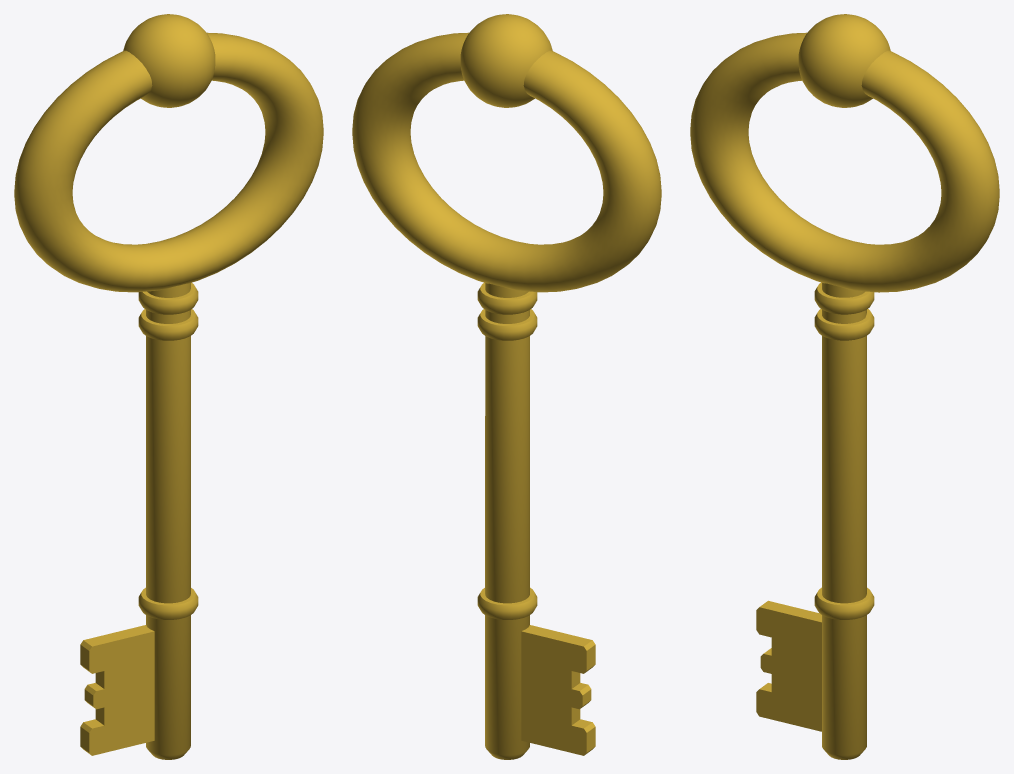
The model's file is KeyC.glb.
3 views of the same model, side by side, from view 1: azimuth 30°, elevation 25°; view 2: azimuth 150°, elevation 25°; view 3: azimuth 330°, elevation 25° (orthographic).
Visible parts, largest first — view 1: key_0; view 2: key_0; view 3: key_0.
Part boxes in pixels (<box>): key_0: <box>14,14,323,759</box>; key_0: <box>352,14,661,759</box>; key_0: <box>690,14,999,759</box>.
Size of the model in its own units: 3.44 by 8 by 0.929.
